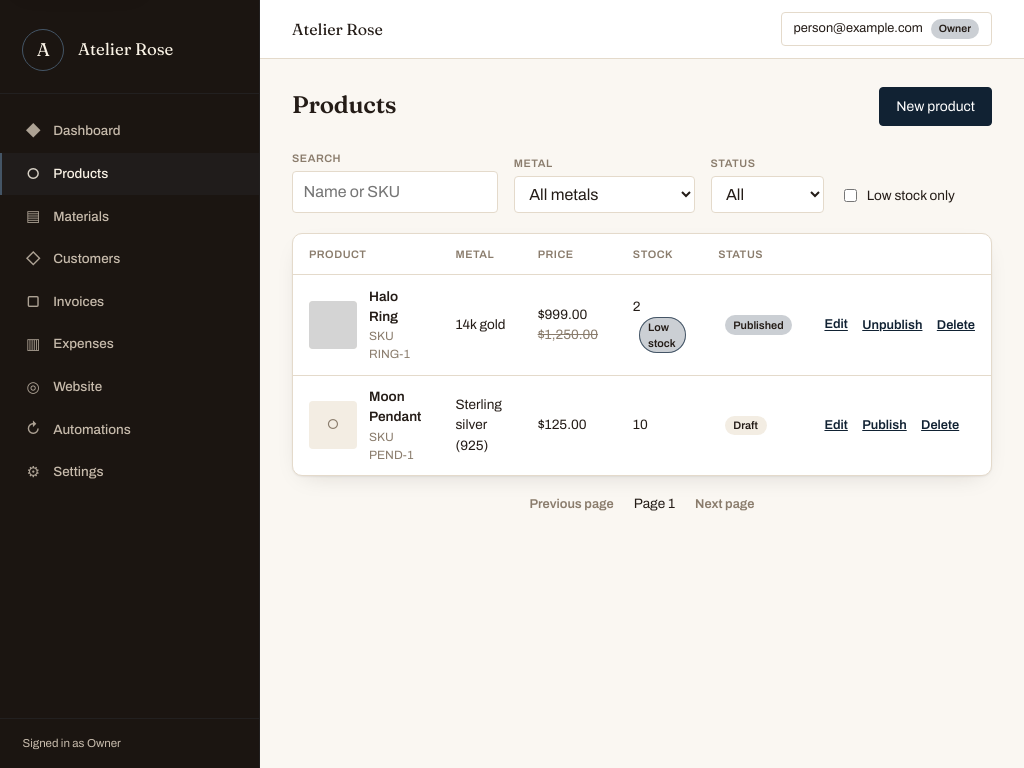
it: delete › a product on an invoice: shows the server's 409 and offers to unpublish instead
The image size is (1024, 768).
Click the button with aria-label "Delete Halo Ring" at (956, 325), box [937,312,975,338]
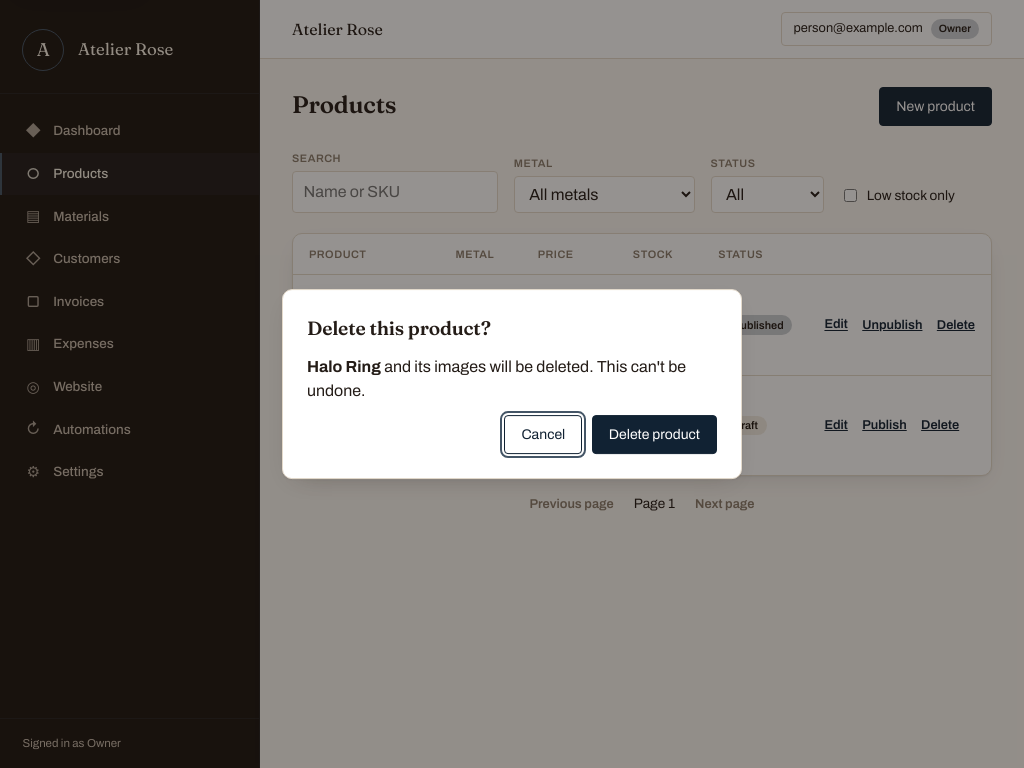
expect the text "Halo Ring" is shown: met, box [307,358,381,375]
Click the button "Delete product" at (654, 434), box [592,415,717,454]
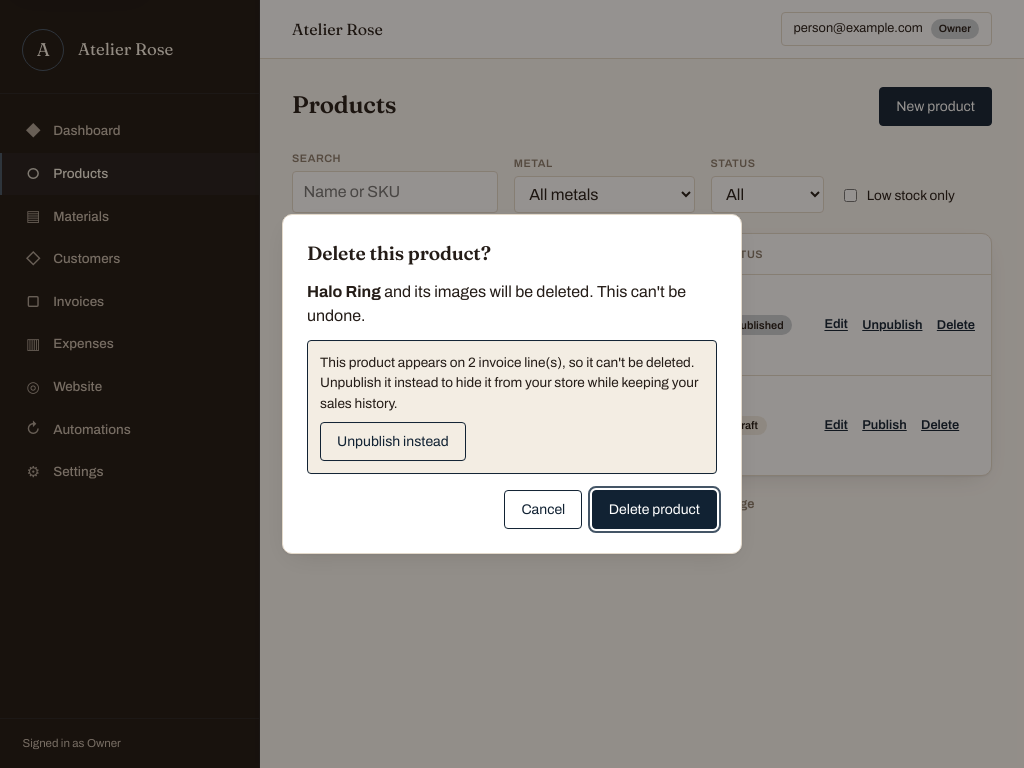
expect the message shows "This product appears on 2 invoice line(s), so it can't be deleted. Unpublish it instead to hide it from your store while keeping your sales history.": met, box [320,355,698,411]
Click the button "Unpublish instead" at (393, 442), box [320,422,466,461]
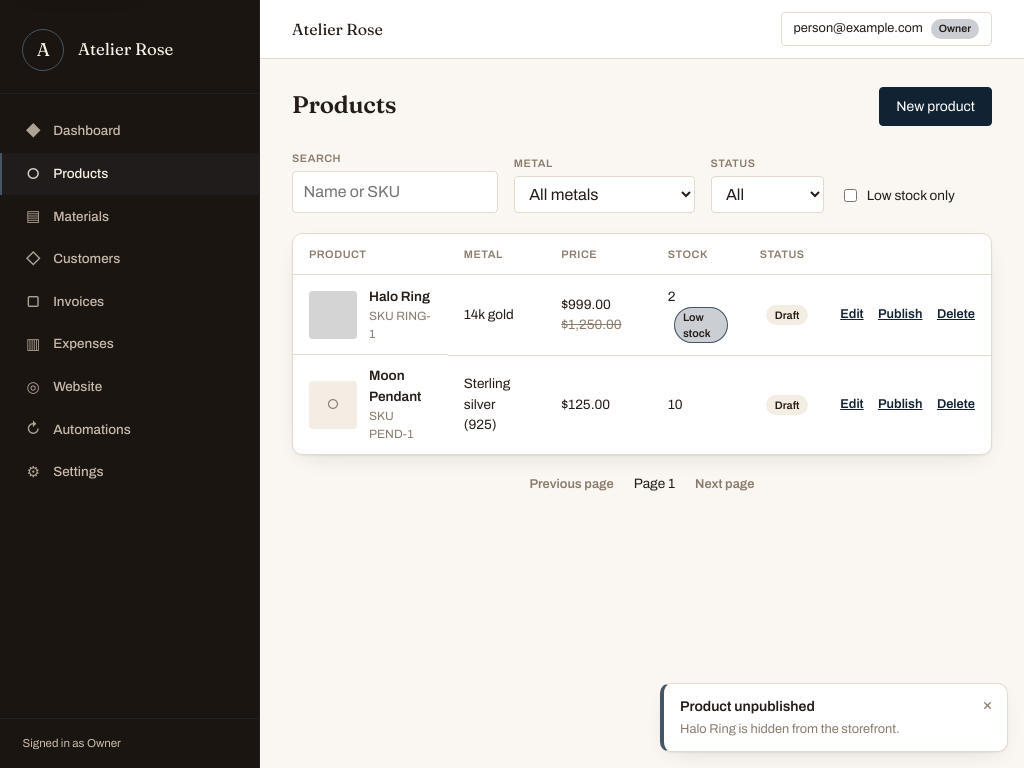
expect the dialog is gone: met
